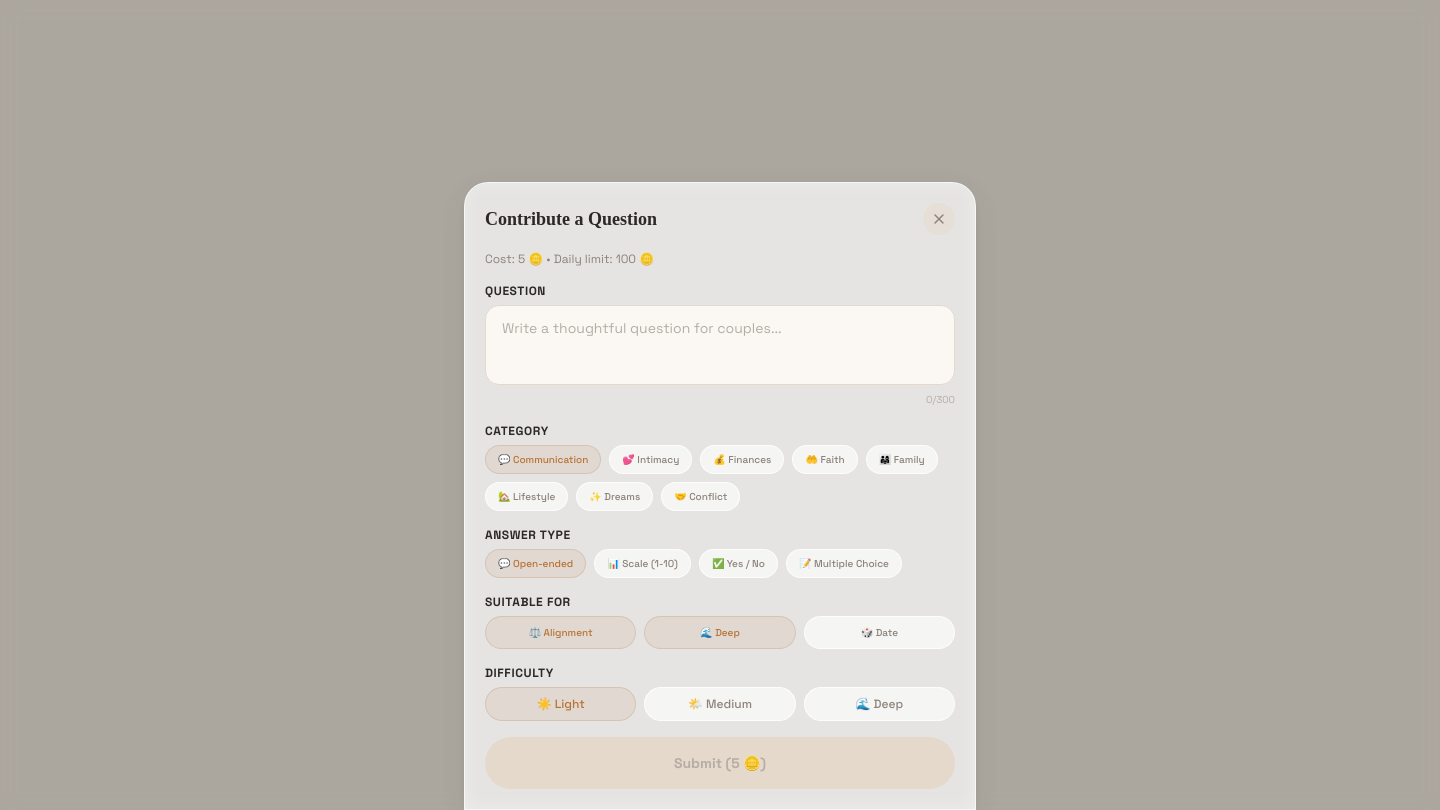
Test: ContributeForm › shows "Submitted for review!" after successful submit
The width and height of the screenshot is (1440, 810).
Type "How do you feel today?" into the text box with placeholder "Write a thoughtful question for couples...". click: point(720, 345)
box: left=485, top=305, right=955, bottom=385
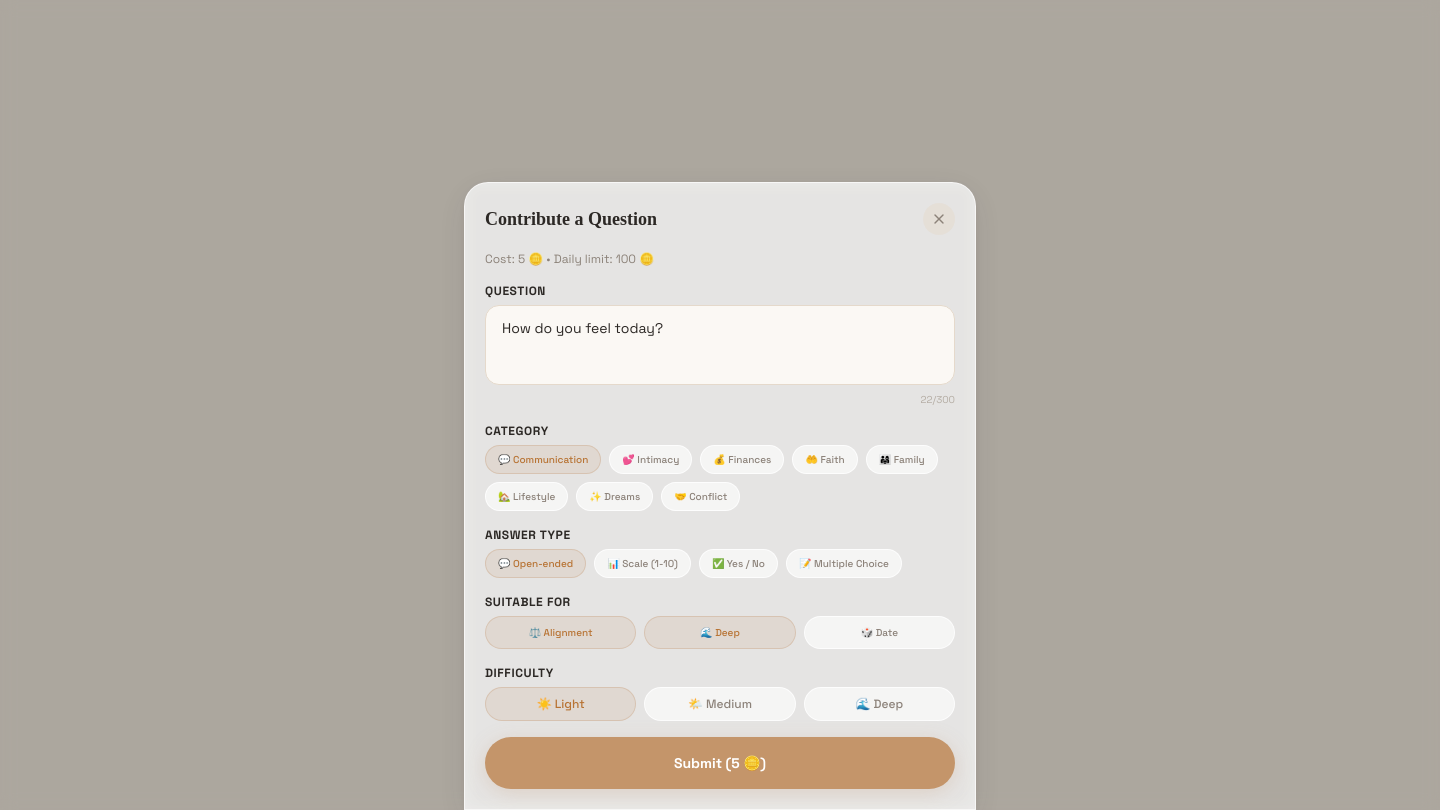
Click the button "Submit (5 🪙)". click: point(720, 763)
box: left=485, top=737, right=955, bottom=789
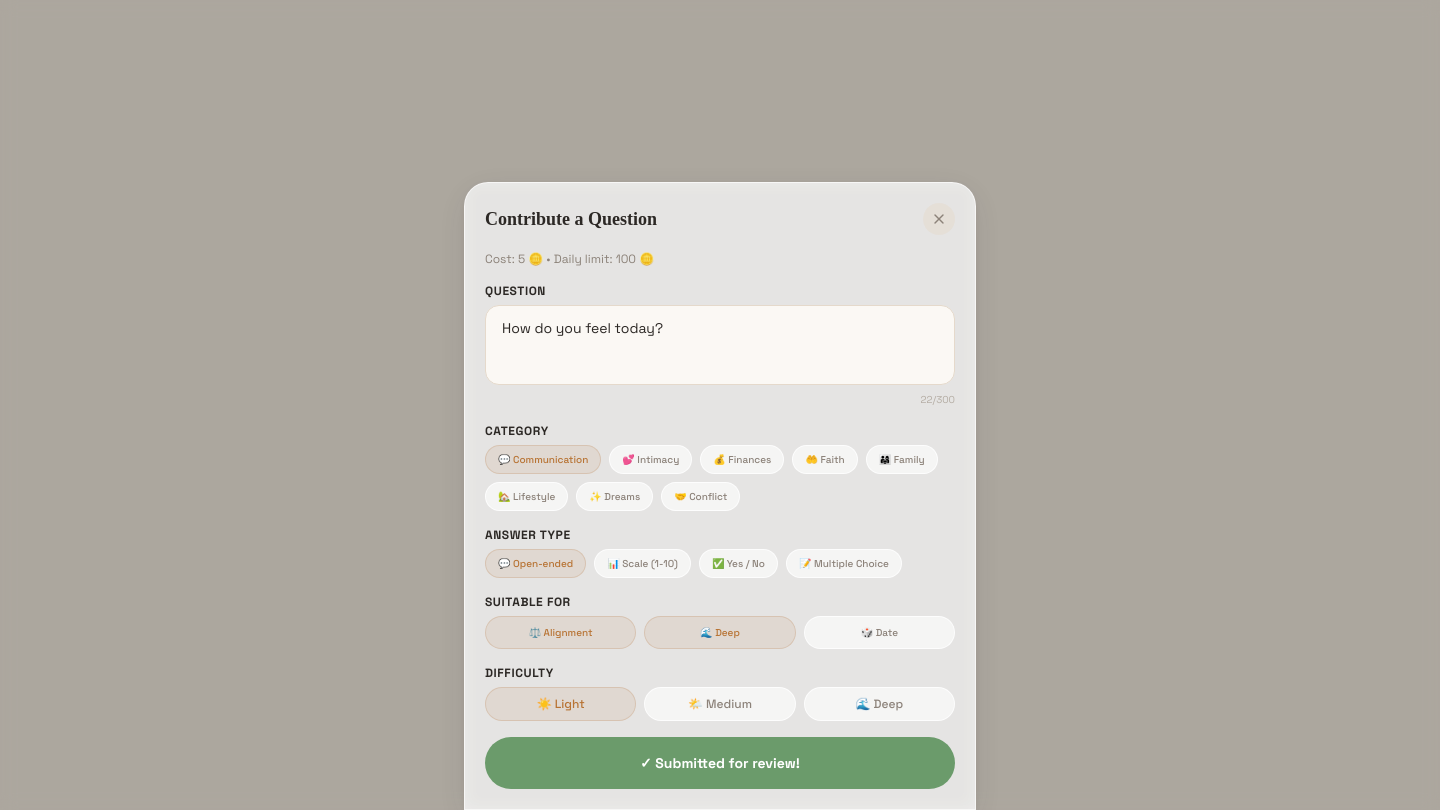
Check: the button "✓ Submitted for review!" is shown, box left=485, top=737, right=955, bottom=789
